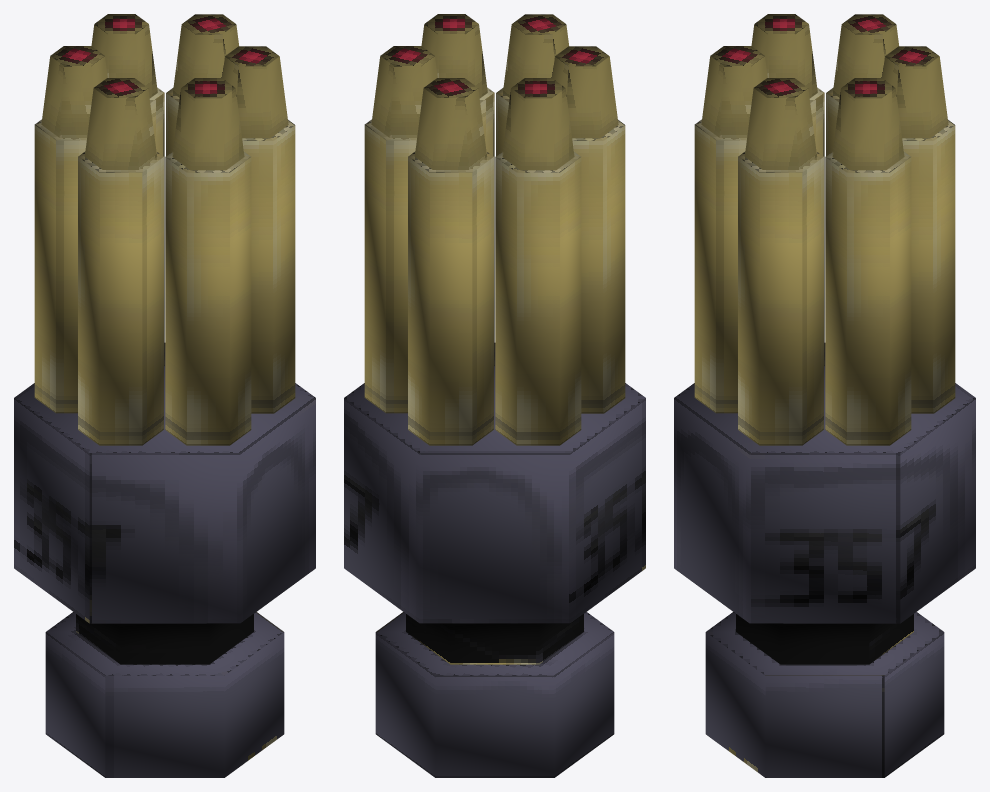
File: MagAmmoSnk.glb
3 views of the same model, side by side, from view 1: azimuth 30°, elevation 25°; view 2: azimuth 150°, elevation 25°; view 3: azimuth 270°, elevation 25° (orthographic).
Visible parts, largest first — view 1: Cylinder; view 2: Cylinder; view 3: Cylinder.
Boxes of the visible parts, x1=… form: Cylinder: x1=14, y1=14, x2=315, y2=777; Cylinder: x1=344, y1=14, x2=645, y2=777; Cylinder: x1=674, y1=14, x2=975, y2=777.
Bounding box in the file's own units: 1.73 × 4.96 × 2.
1 material, 1 textured.
